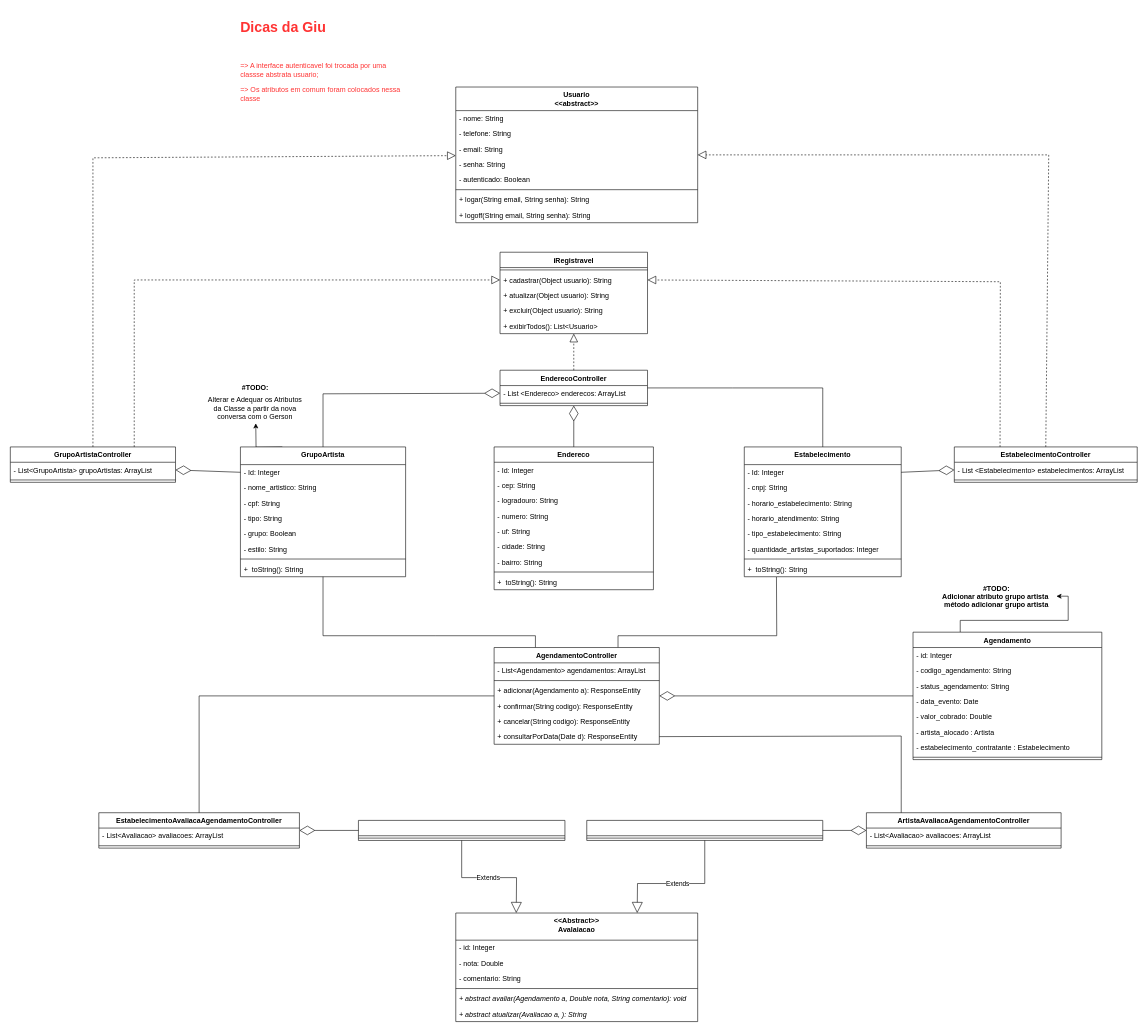
The diagram is 1148 pixels wide and 1033 high, and some of its shapes have lost their labels. The shapes that lost their labels are listed below. From the top down, each one's centre as x and y in pixels, then its label:
At pixel 461 830: "EstabelecimentoAvaliacaoAgendamento".
At pixel 704 830: "ArtistaAvaliacaoAgendamento".
